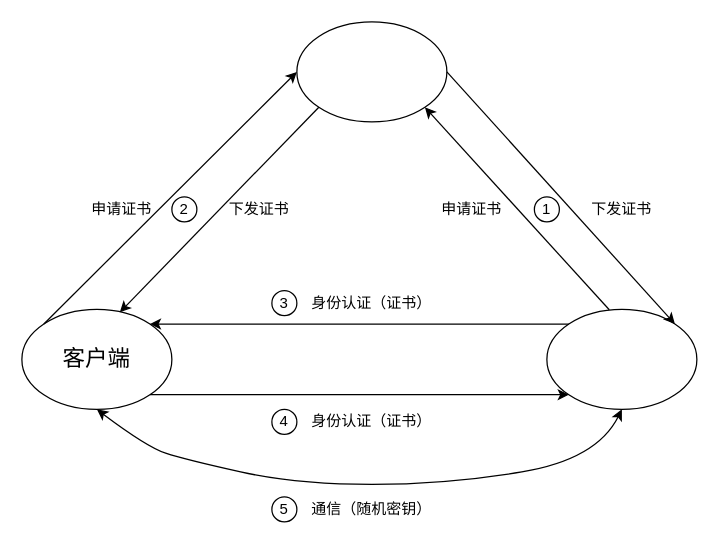
Some shapes in this 719 by 550 pixel diagram are drawn without their labels. The shapes that lost their labels are listed below. From the top down, each one's centre as x and y in pixels, then its label:
[371,71]: CA机构
[621,358]: 服务端
